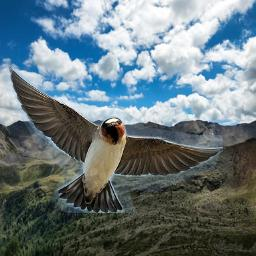Swallow: (6, 64, 223, 213)
